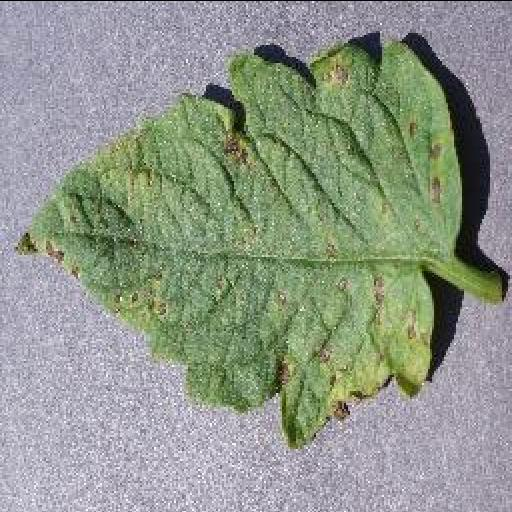disease_tomato: (10, 36, 462, 444)
